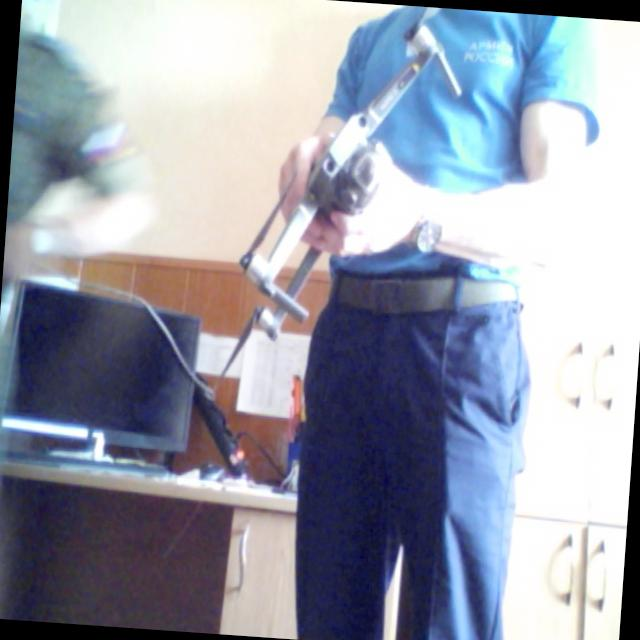drone: (211, 0, 460, 390)
